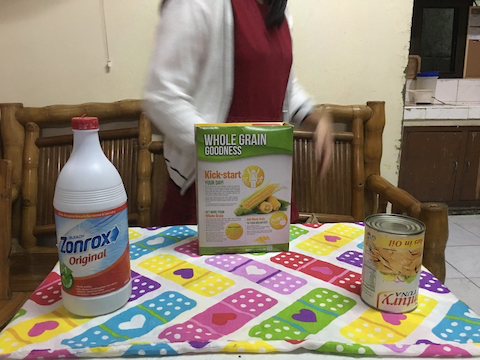bottle: (51, 112, 137, 318)
box: (192, 116, 299, 257)
can: (356, 208, 430, 316)
